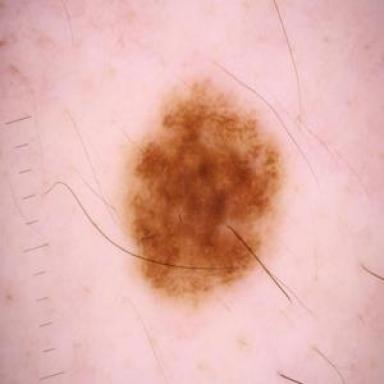Melanoma: (128, 82, 282, 297)
